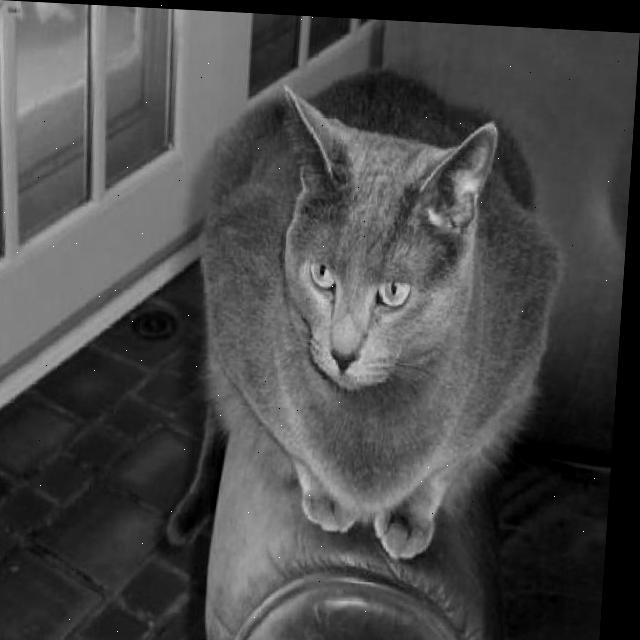Cat: (165, 63, 576, 569)
